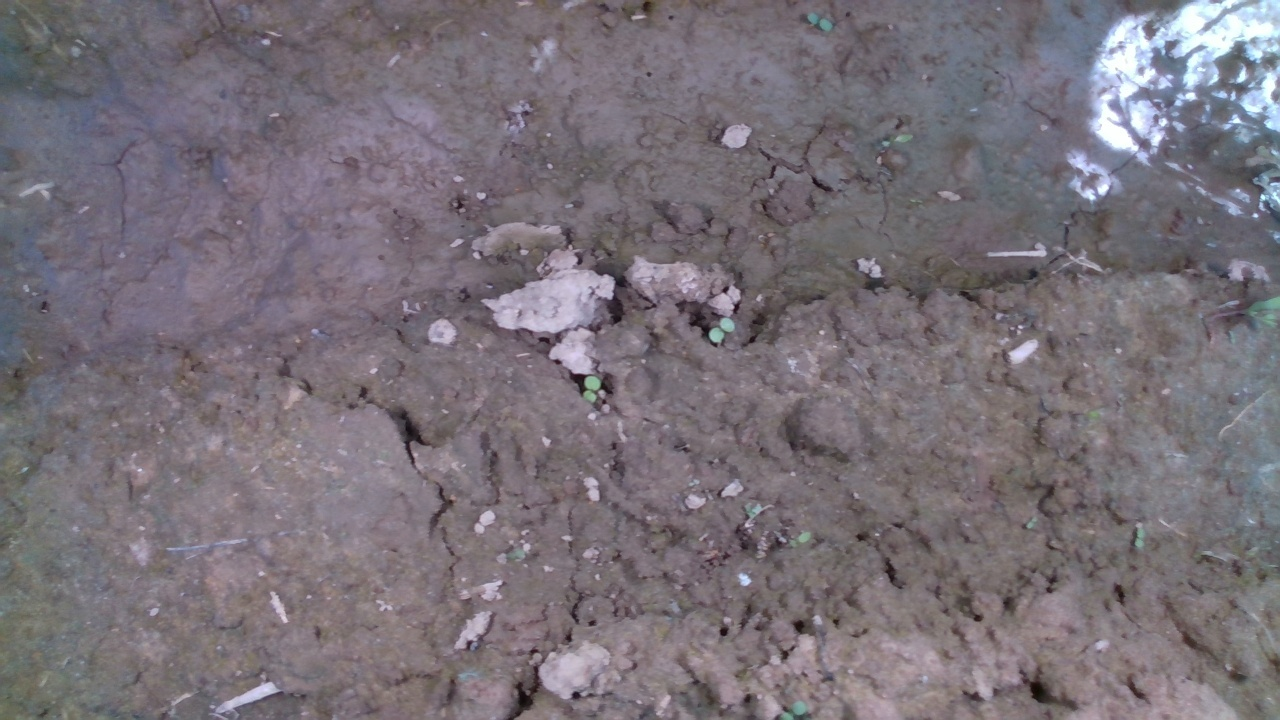weed: (563, 363, 609, 405), (707, 313, 746, 346)
